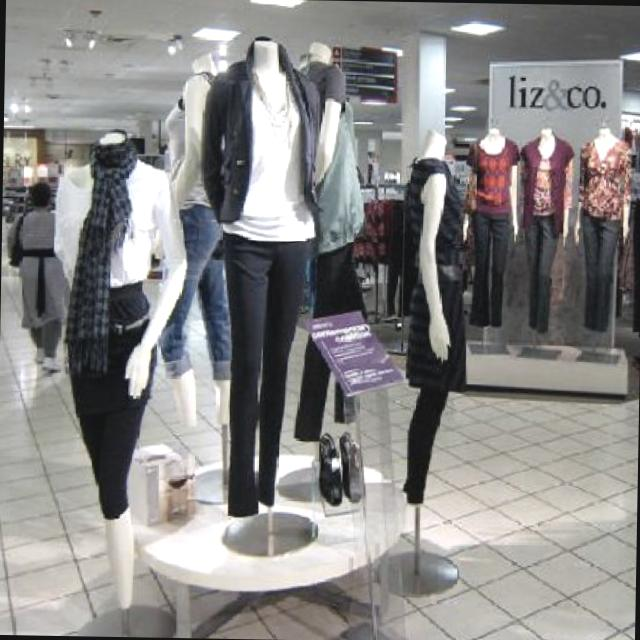Person: (44, 127, 191, 612), (190, 28, 322, 524), (154, 46, 243, 468), (289, 28, 376, 449), (390, 117, 475, 510), (566, 119, 634, 339), (514, 118, 578, 339), (2, 172, 64, 378), (460, 120, 518, 335)
